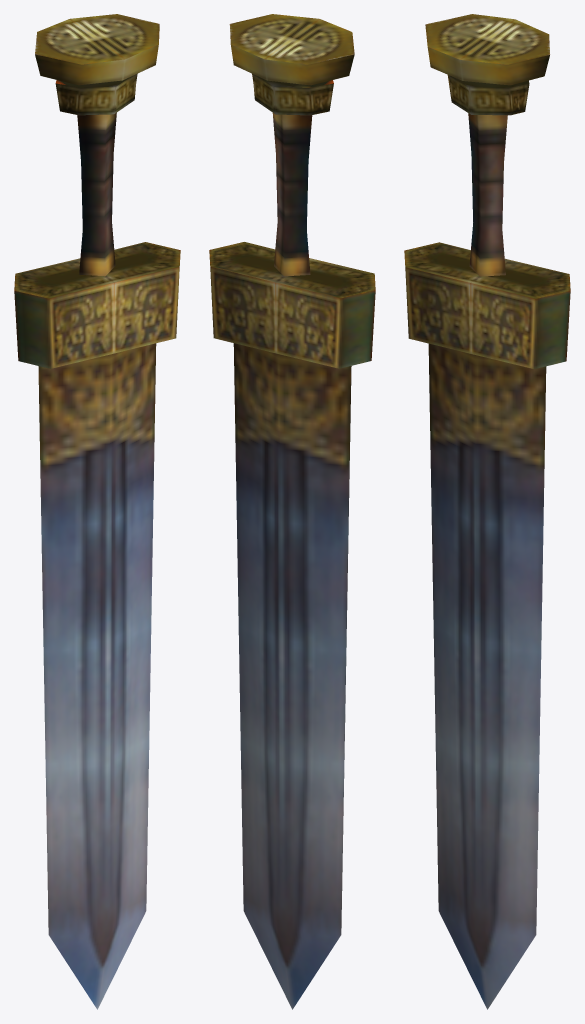
Rendered from jian001.FBX.
3 views of the same model, side by side, from view 1: azimuth 30°, elevation 25°; view 2: azimuth 150°, elevation 25°; view 3: azimuth 330°, elevation 25° (orthographic).
Parts seen in each view (by area): view 1: hero007_weapon; view 2: hero007_weapon; view 3: hero007_weapon.
Part boxes in pixels (x1,y1,x2,y2): hero007_weapon: (14,14,180,1009); hero007_weapon: (209,14,375,1009); hero007_weapon: (404,14,570,1009).
Size of the model in its own units: 27.63 by 154 by 15.96.
